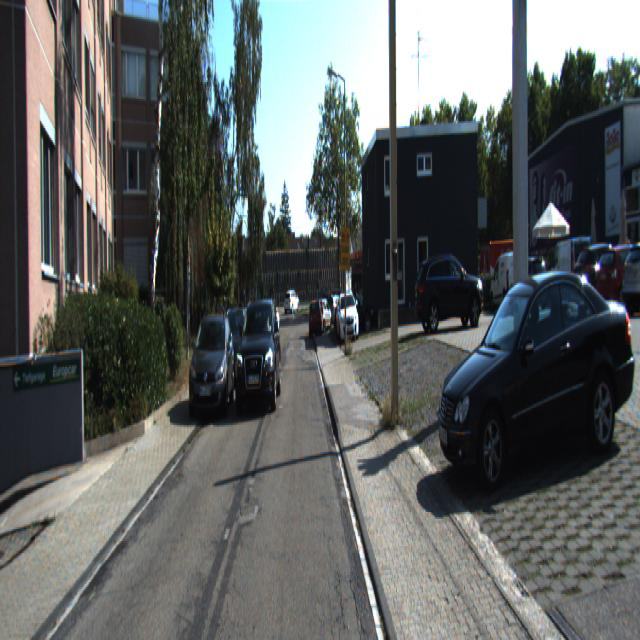Car: (426, 234, 640, 489), (414, 247, 485, 335), (232, 298, 282, 419), (186, 306, 235, 422), (594, 245, 639, 321), (214, 307, 252, 391), (489, 251, 526, 314), (510, 253, 550, 310), (620, 238, 640, 320), (336, 290, 359, 344), (308, 298, 324, 340), (283, 288, 300, 315)
Van: (549, 231, 591, 305)
